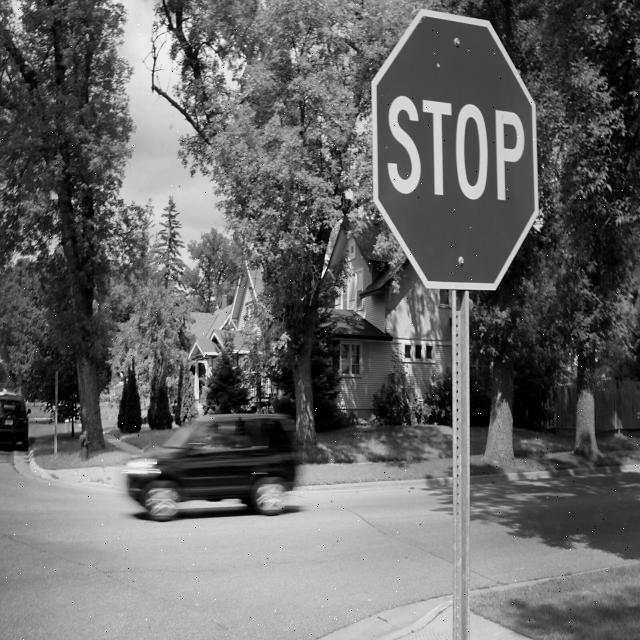Stop-sign: (358, 0, 563, 327)
